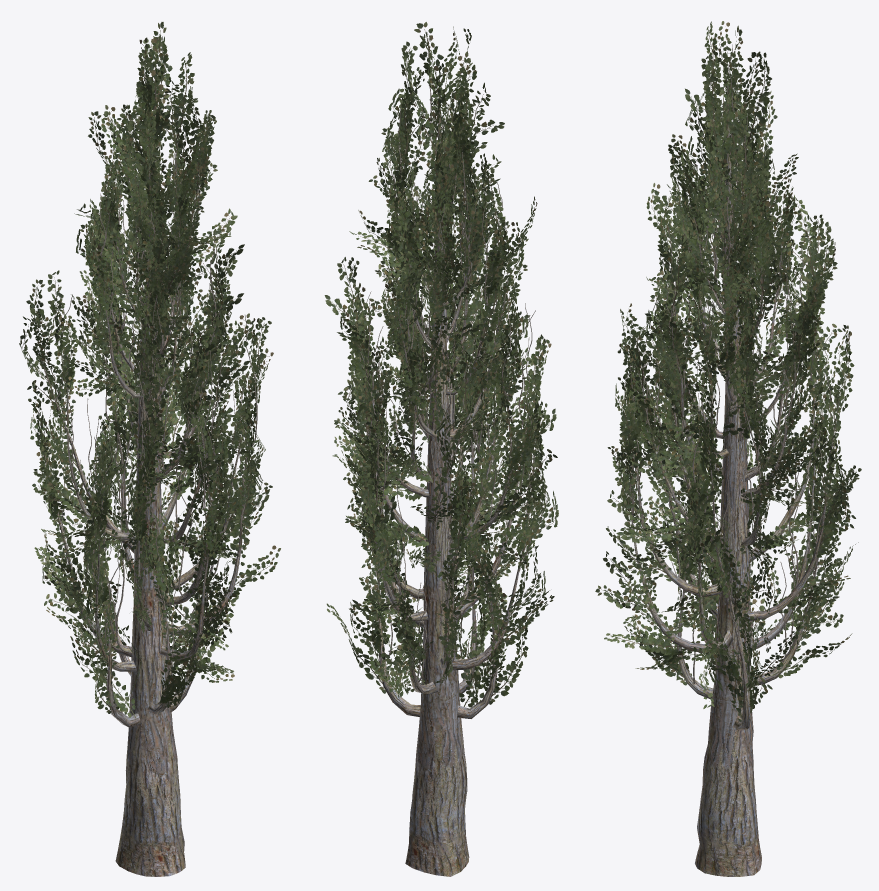
Rendered from SM_Ash02.fbx.
3 views of the same model, side by side, from view 1: azimuth 30°, elevation 25°; view 2: azimuth 150°, elevation 25°; view 3: azimuth 270°, elevation 25° (orthographic).
Parts seen in each view (by area): view 1: Ash02_LOD0; view 2: Ash02_LOD0; view 3: Ash02_LOD0.
Boxes of the visible parts, x1,y1,x2,y2 form: Ash02_LOD0: (19,22,280,876); Ash02_LOD0: (324,22,558,876); Ash02_LOD0: (595,21,861,876).
Size of the model in its own units: 722 by 2568 by 751.
